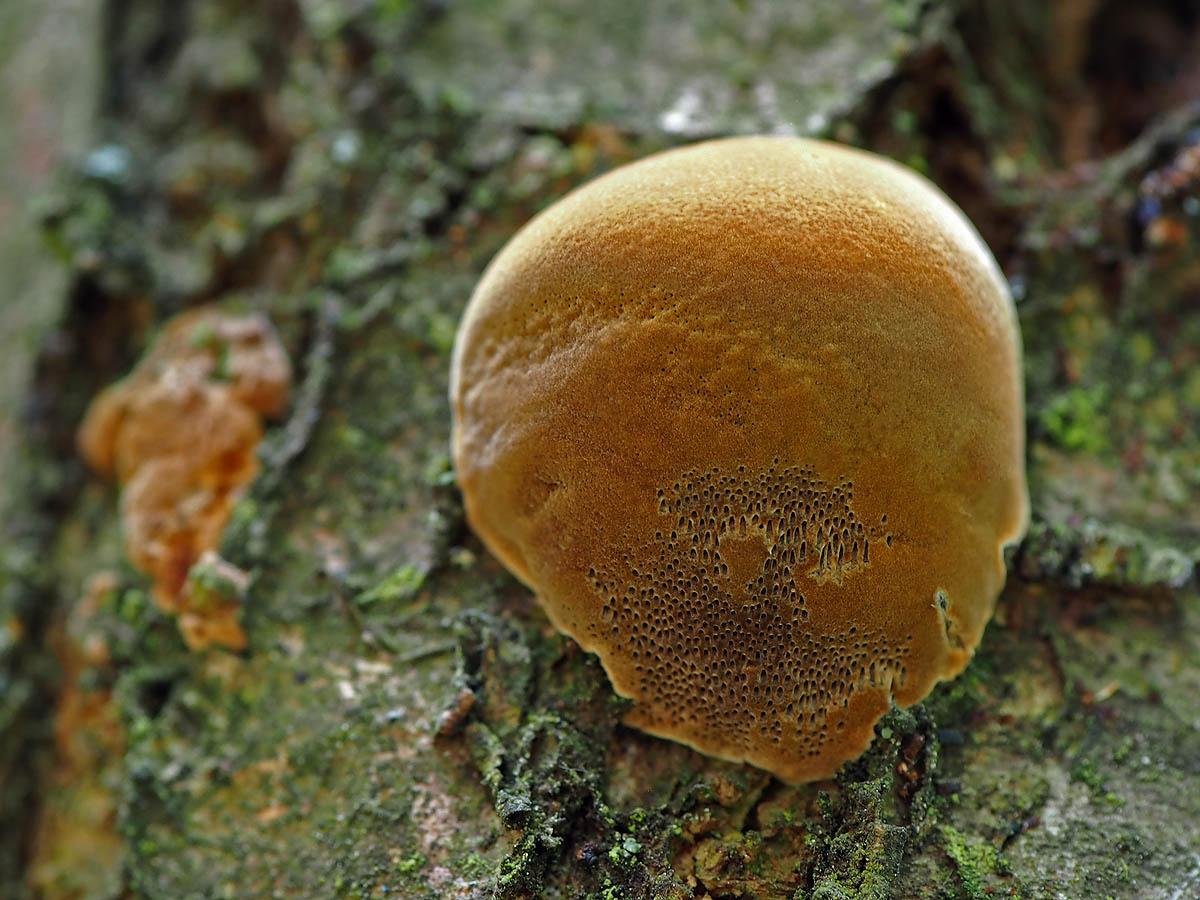Plum tinder fungus: (407, 111, 1063, 787)
